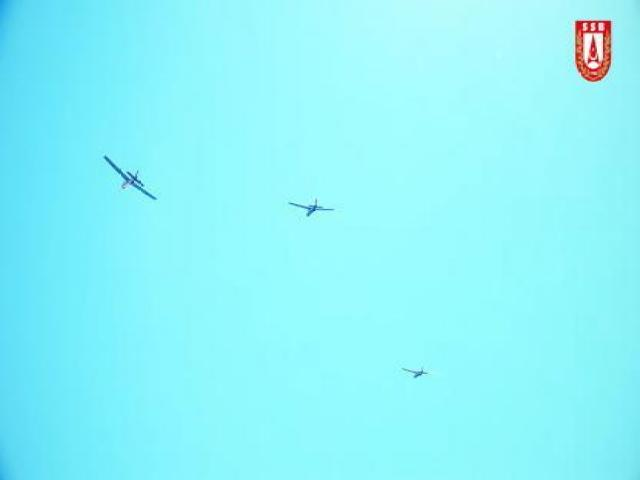uav: (105, 152, 158, 203), (288, 194, 334, 218), (402, 363, 433, 380)
